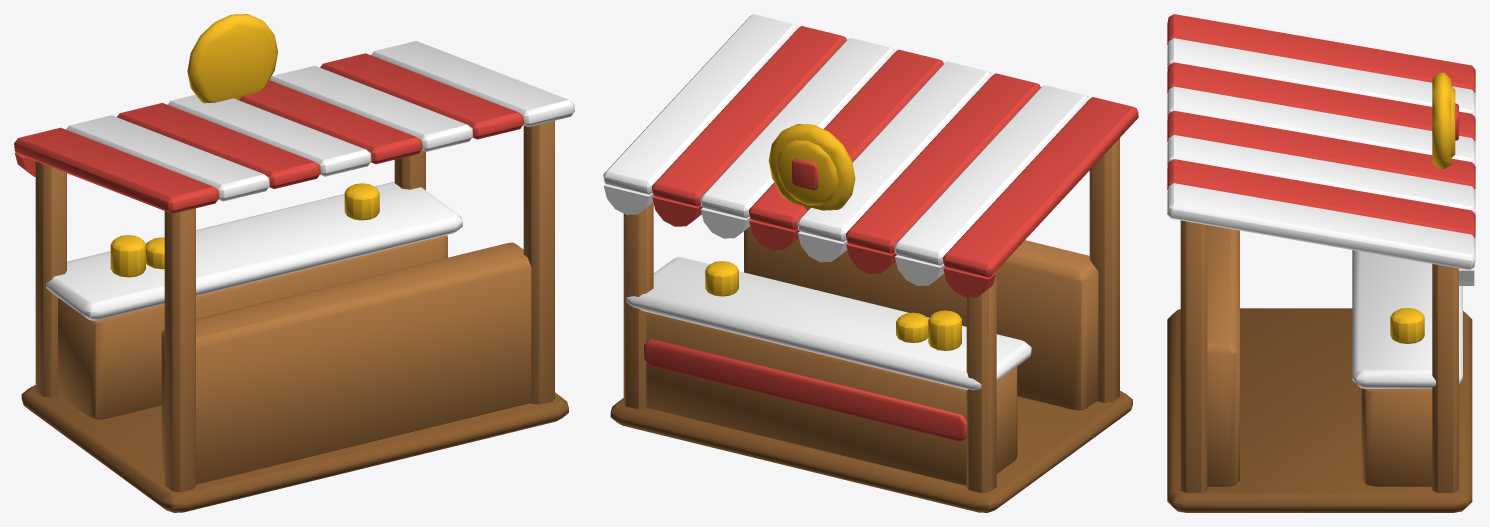
Rendered from Hub_SellBooth.glb.
3 views of the same model, side by side, from view 1: azimuth 30°, elevation 25°; view 2: azimuth 150°, elevation 25°; view 3: azimuth 270°, elevation 25° (orthographic). The views are drawn at different scales.
Visible parts, largest first — view 1: Wood_B5793F, White_FFFFFF, Red_E0453C, Base_8A5A2B, Gold_FFC21A; view 2: Wood_B5793F, White_FFFFFF (×2), Red_E0453C (×2), Base_8A5A2B, Gold_FFC21A; view 3: White_FFFFFF, Base_8A5A2B, Red_E0453C, Wood_B5793F, Gold_FFC21A.
Part boxes in pixels (x1,y1,x2,y2): Wood_B5793F: (35, 120, 554, 492); White_FFFFFF: (46, 41, 574, 320); Red_E0453C: (14, 53, 523, 213); Base_8A5A2B: (21, 385, 568, 512); Gold_FFC21A: (110, 14, 379, 277); Wood_B5793F: (623, 138, 1119, 493); White_FFFFFF (×2): (603, 14, 1089, 390); Red_E0453C (×2): (644, 26, 1138, 441); Base_8A5A2B: (610, 391, 1132, 512); Gold_FFC21A: (705, 124, 961, 350); White_FFFFFF: (1167, 38, 1475, 388); Base_8A5A2B: (1167, 308, 1472, 512); Red_E0453C: (1167, 14, 1475, 237); Wood_B5793F: (1180, 220, 1458, 492); Gold_FFC21A: (1390, 72, 1455, 343).
Size of the model in its own units: 12 by 9.9 by 8.09.
